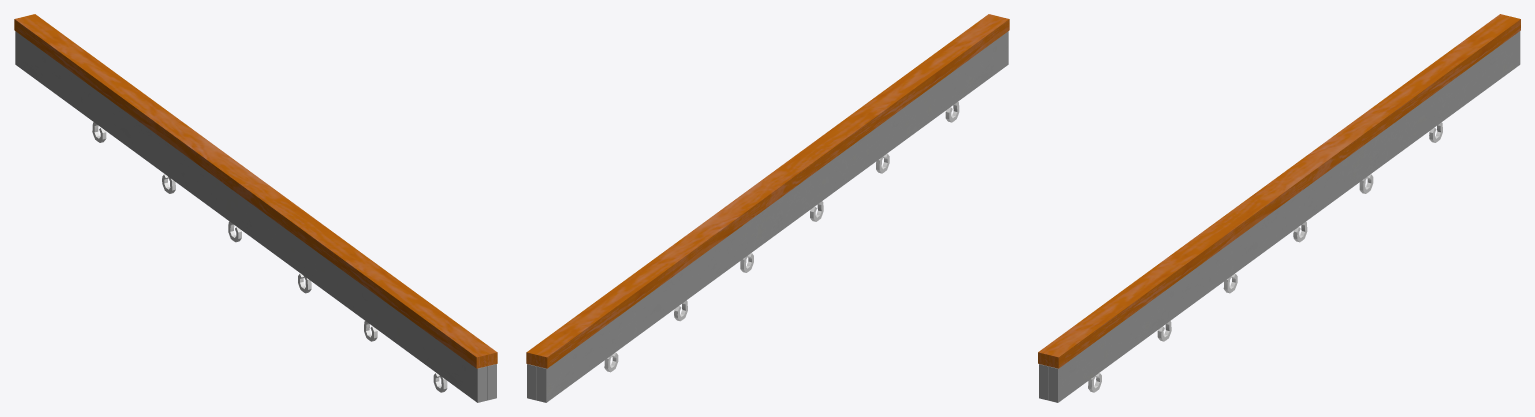
File: Swing 3 positions attachment.glb
3 renders of one model, left to right at view 1: azimuth 30°, elevation 25°; view 2: azimuth 150°, elevation 25°; view 3: azimuth 330°, elevation 25°, orthographic.
Parts seen in each view (by area): view 1: Swing 3 positions attachment; view 2: Swing 3 positions attachment; view 3: Swing 3 positions attachment.
Boxes of the visible parts, x1,y1,x2,y2 form: Swing 3 positions attachment: (14, 14, 497, 402); Swing 3 positions attachment: (526, 14, 1009, 402); Swing 3 positions attachment: (1038, 14, 1520, 402).
Bounding box in the file's own units: 0.1104 × 0.3563 × 4.27.
1 material, 1 textured.
